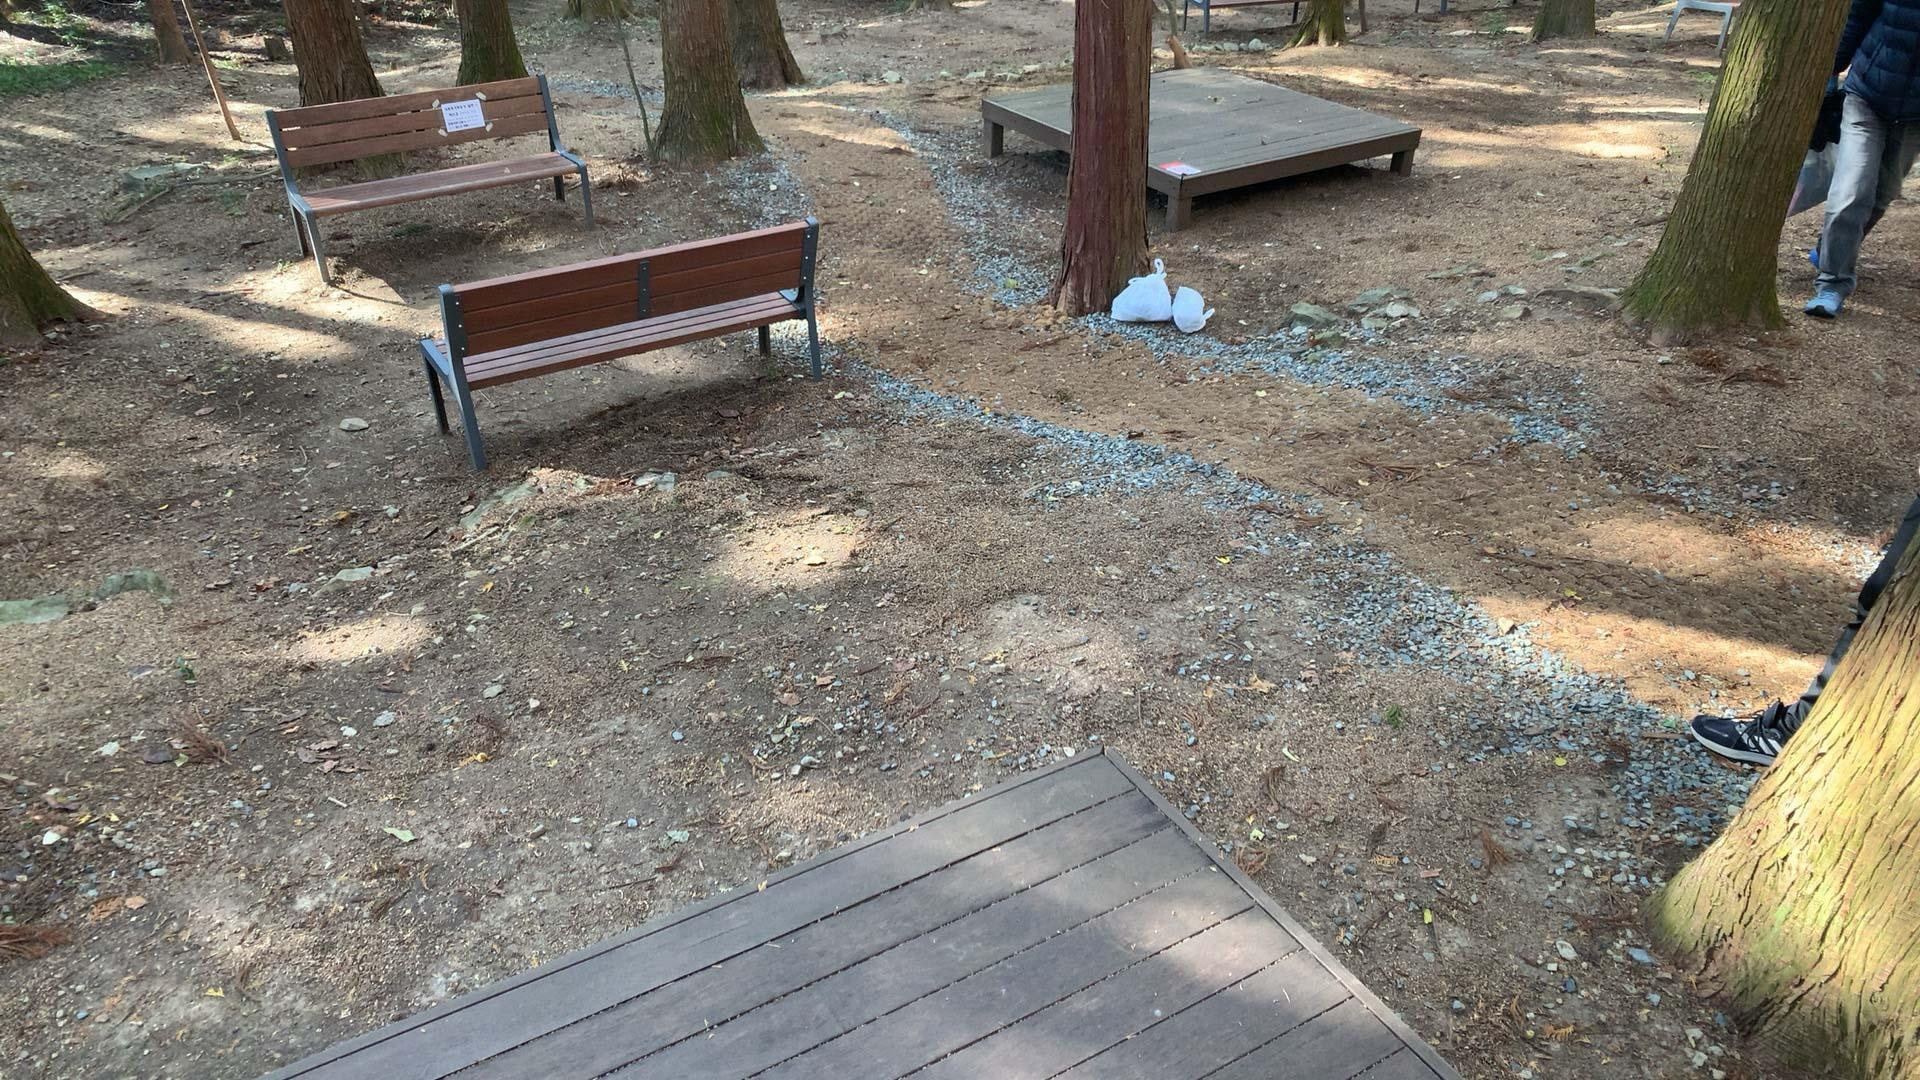white_bag: (1104, 253, 1174, 324), (1164, 282, 1216, 334)
